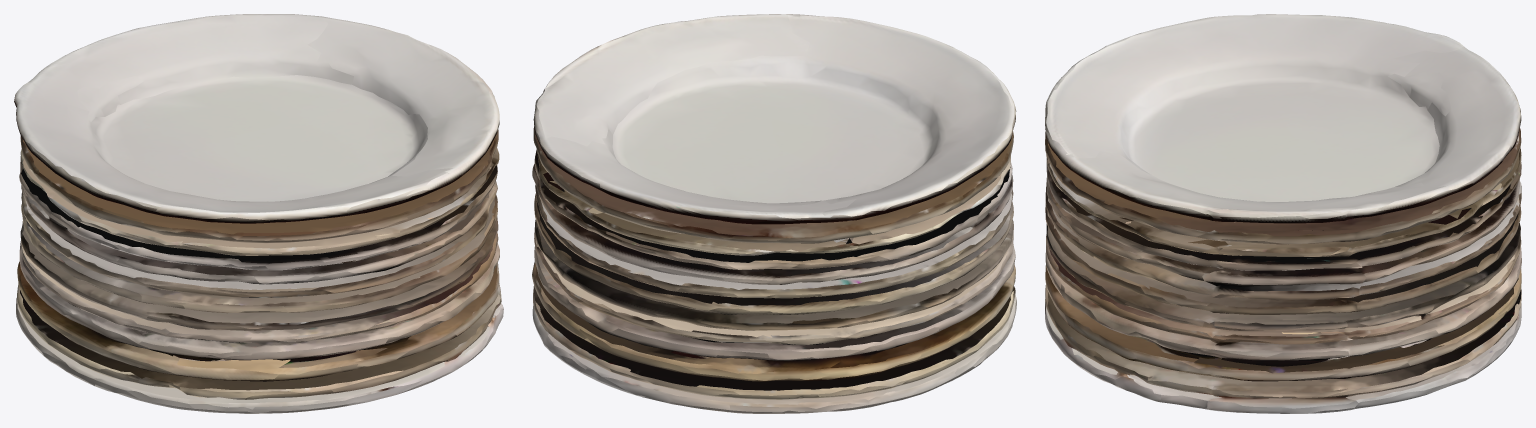
The picture shows the model from 3 angles, left to right: view 1: azimuth 30°, elevation 25°; view 2: azimuth 150°, elevation 25°; view 3: azimuth 270°, elevation 25°; orthographic projection.
Parts seen in each view (by area): view 1: tmpn_h29zl7.ply; view 2: tmpn_h29zl7.ply; view 3: tmpn_h29zl7.ply.
Part boxes in pixels (box(x1,y1,x2,y2)): tmpn_h29zl7.ply: box(14, 14, 503, 413); tmpn_h29zl7.ply: box(532, 14, 1016, 413); tmpn_h29zl7.ply: box(1045, 14, 1521, 413).
Size of the model in its own units: 197 by 91.95 by 196.
Materials: 1 (1 with a texture image).
